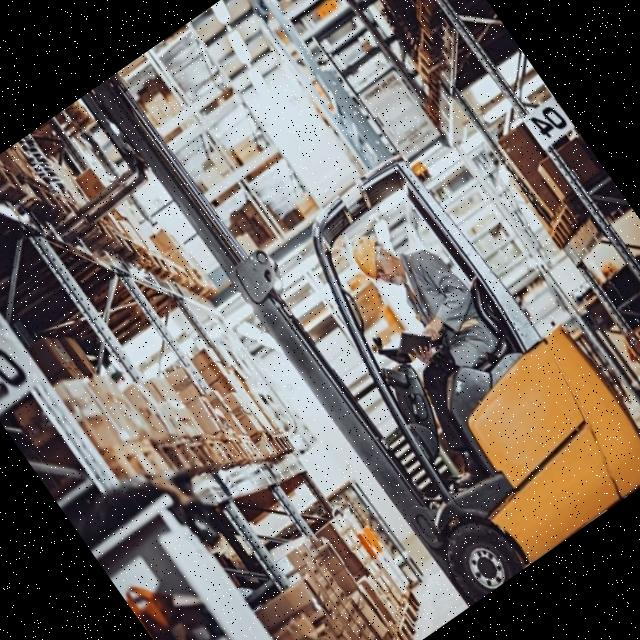Person: (307, 202, 563, 493)
